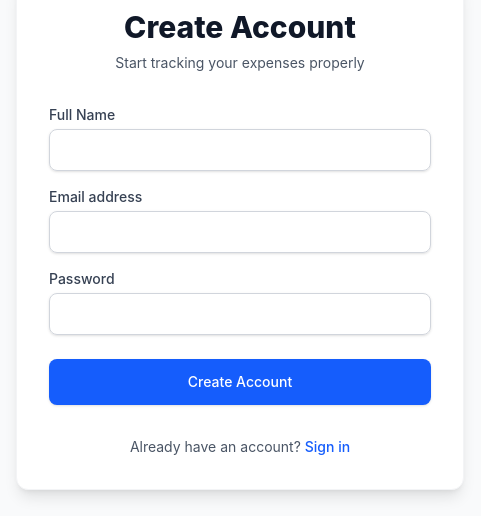
Register Component › disables submit button while loading
The width and height of the screenshot is (481, 516).
Type "Test User" into the field labelled "Full Name" at (240, 150), box [49,129,431,171]
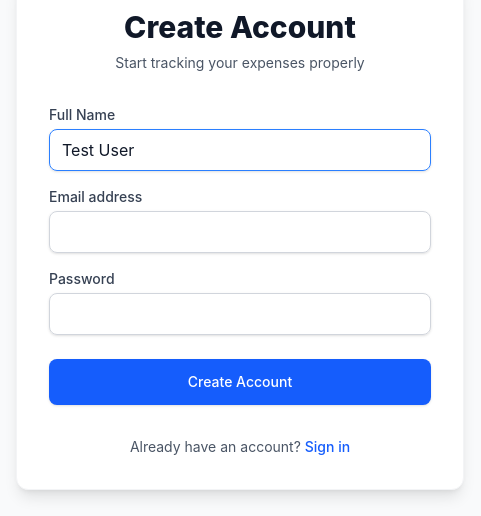
Type "test@example.com" into the field labelled "Email address" at (240, 232), box [49,211,431,253]
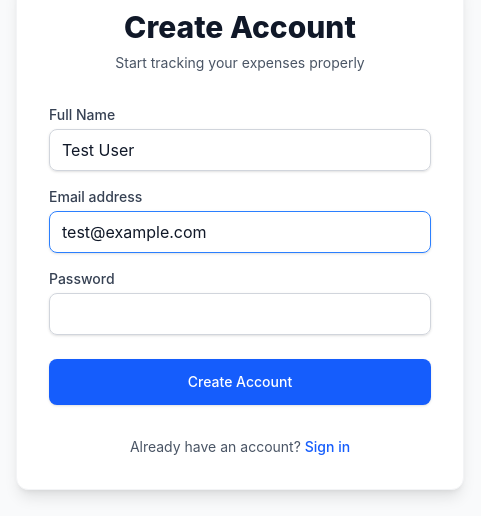
Type "password123" into the password field labelled "Password" at (240, 314), box [49,293,431,335]
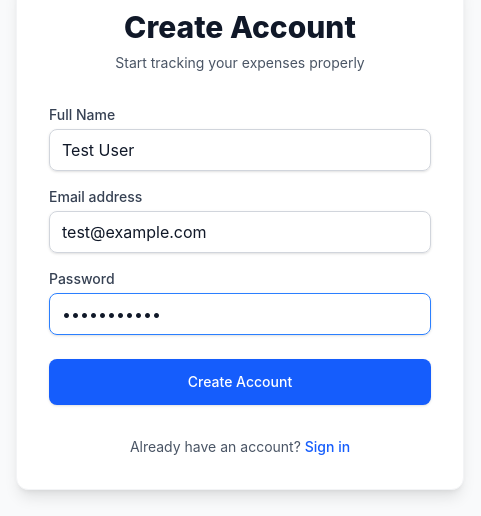
Click the button "Create Account" at (240, 382), box [49,359,431,405]
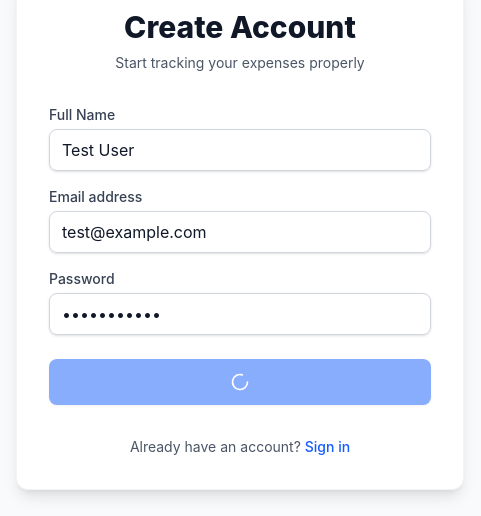
Expected: the button named "Create Account" is disabled, [49,359,431,405]
